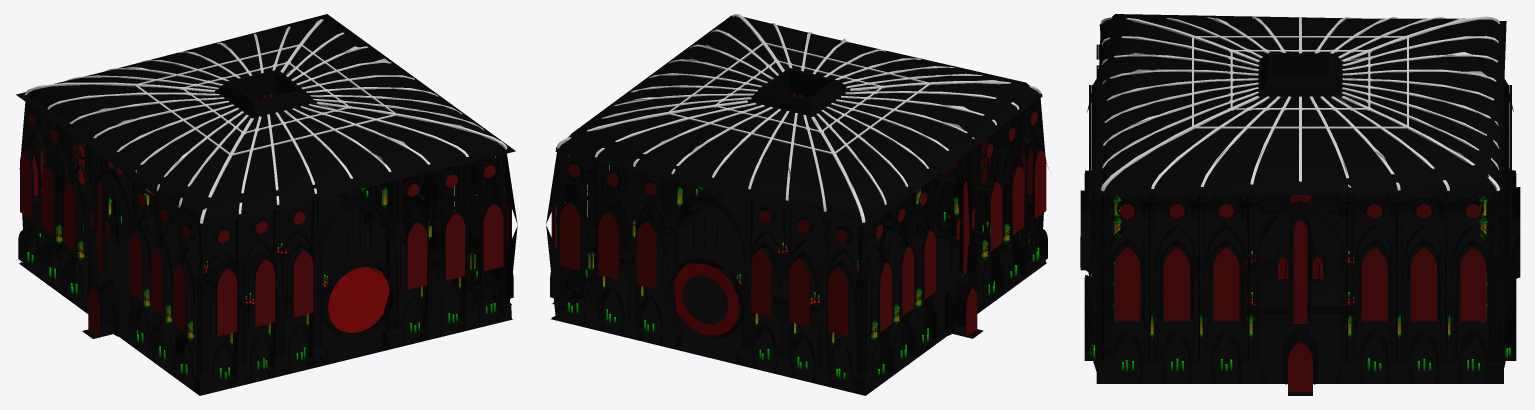
File: room.glb
3 views of the same model, side by side, from view 1: azimuth 30°, elevation 25°; view 2: azimuth 150°, elevation 25°; view 3: azimuth 270°, elevation 25° (orthographic). The views are drawn at different scales.
Parts seen in each view (by area): view 1: shell, shell_far, floor, glow, plinth, metal, candles, timber; view 2: shell, shell_far, floor, glow, plinth, metal, candles, timber; view 3: shell, floor, shell_far, glow, plinth, metal, candles.
Boxes of the visible parts, x1,y1,x2,y2 form: shell: (18,19,513,394); shell_far: (16,14,517,391); floor: (19,194,512,395); glow: (20,93,511,342); plinth: (187,249,334,324); metal: (53,150,479,346); candles: (26,190,495,379); timber: (102,208,425,333); shell: (550,14,1047,395); shell_far: (546,15,1048,392); floor: (551,193,1046,395); glow: (551,92,1046,341); plinth: (719,248,878,324); metal: (584,149,1012,345); candles: (565,189,1039,379); timber: (640,207,963,332); shell: (1080,16,1520,384); floor: (1096,213,1503,395); shell_far: (1080,14,1520,383); glow: (1114,187,1510,392); plinth: (1235,258,1365,325); metal: (1109,195,1489,350); candles: (1090,195,1510,371).
Size of the model in its own units: 54 by 29.8 by 51.21.
